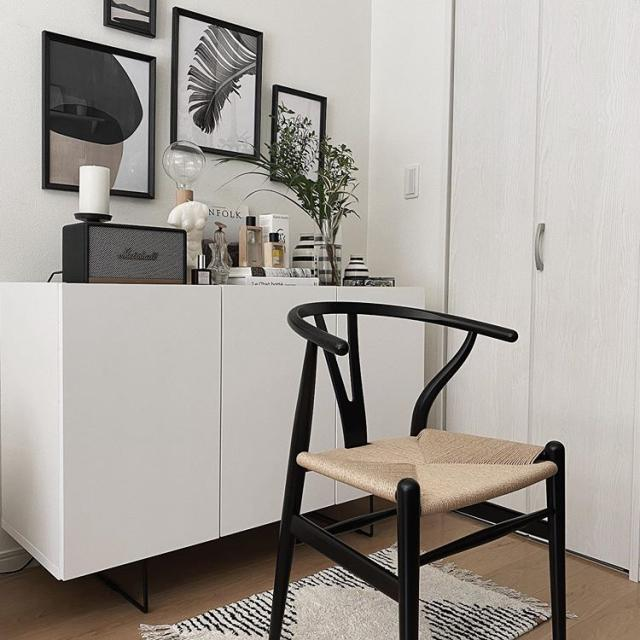modern chair: (269, 276, 585, 640)
modern shelf: (15, 265, 344, 545)
